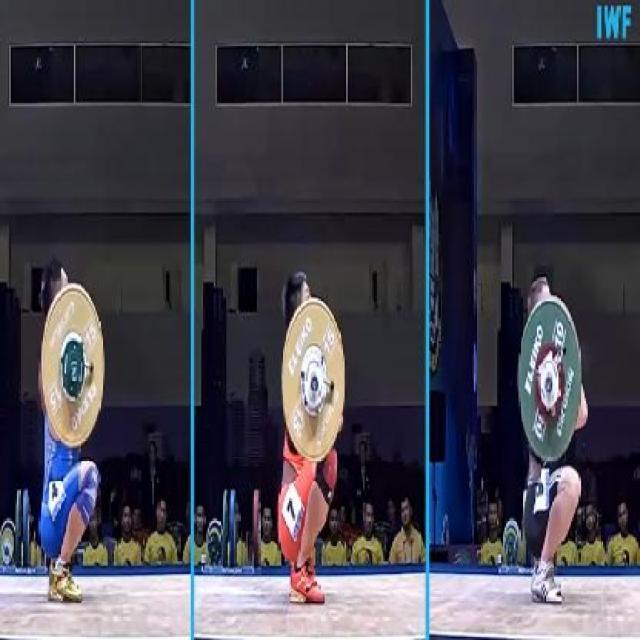barbell: (512, 277, 587, 473), (38, 276, 113, 460), (276, 293, 351, 466)
